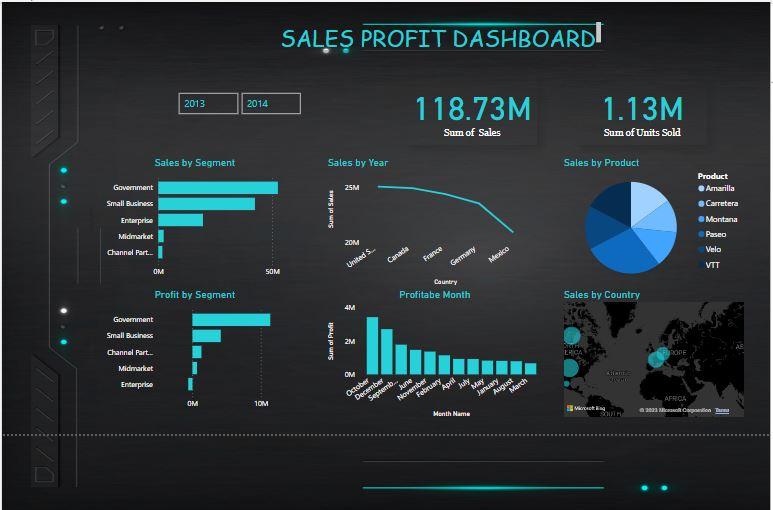

What the dashboard file says about the page in this screenshot:
{"tool":"powerbi","page":{"name":"Sales Profit Dashboard","canvas":[1280,720],"ordinal":0},"visuals":[{"type":"card","fields":{"Values":["Sum(Sheet1. Sales)"]},"box":[675,121.7,216.7,116.7],"z":0},{"type":"card","fields":{"Values":["Sum(Sheet1.Units Sold)"]},"box":[958.3,121.7,216.7,116.7],"z":1000},{"type":"barChart","title":"Sales by Segment","fields":{"Y":["Sum(Sheet1. Sales)"],"Category":["Sheet1.Segment"]},"box":[138.3,256.7,366.7,220],"z":2000},{"type":"lineChart","title":"Sales by Year","fields":{"Y":["Sum(Sheet1. Sales)"],"Category":["Sheet1.Country"]},"box":[538.3,256.7,340,220],"z":3000},{"type":"pieChart","title":" Sales by Product","fields":{"Y":["Sum(Sheet1. Sales)"],"Series":["Sheet1.Product"]},"box":[931.7,256.7,310,220],"z":4000},{"type":"barChart","title":"Profit by Segment","fields":{"Y":["Sum(Sheet1.Profit)"],"Category":["Sheet1.Segment"]},"box":[138.3,476.7,366.7,220],"z":5000},{"type":"columnChart","title":"Profitabe Month","fields":{"Category":["Sheet1.Month Name"],"Y":["Sum(Sheet1.Profit)"]},"box":[538.3,476.7,366.7,220],"z":6000},{"type":"map","title":"Sales by Country","fields":{"Size":["Sum(Sheet1. Sales)"],"Category":["Sheet1.Country"]},"box":[932,477,310,220],"z":7000},{"type":"textbox","box":[393.5,14.5,609.7,66.1],"z":8000},{"type":"slicer","fields":{"Values":["Sheet1.Year"]},"box":[281.7,141.7,223.3,96.7],"z":9000}]}

Visuals, with their boxes on the page's 1280x720 design canvas (x1, y1, x2, y2). These are canvas units, not pixel positions in the 773x510 screenshot, which may show the page scaled, cropped or inside an application window:
card - Sum(Sheet1. Sales): (675, 122, 892, 238)
card - Sum(Sheet1.Units Sold): (958, 122, 1175, 238)
"Sales by Segment" barChart: (138, 257, 505, 477)
"Sales by Year" lineChart: (538, 257, 878, 477)
" Sales by Product" pieChart: (932, 257, 1242, 477)
"Profit by Segment" barChart: (138, 477, 505, 697)
"Profitabe Month" columnChart: (538, 477, 905, 697)
"Sales by Country" map: (932, 477, 1242, 697)
textbox: (394, 14, 1003, 81)
slicer - Sheet1.Year: (282, 142, 505, 238)
